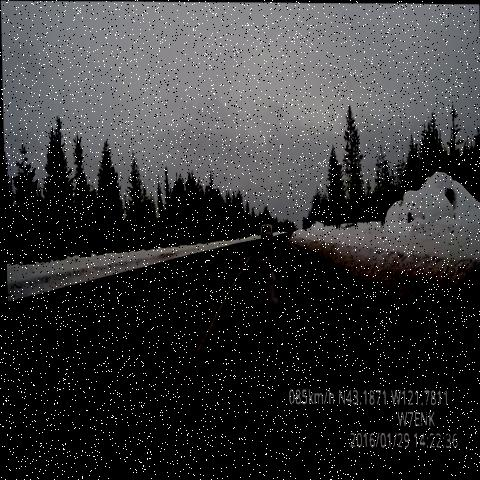pothole: (150, 263, 192, 299), (202, 242, 241, 268), (254, 267, 279, 295), (256, 258, 274, 274)
